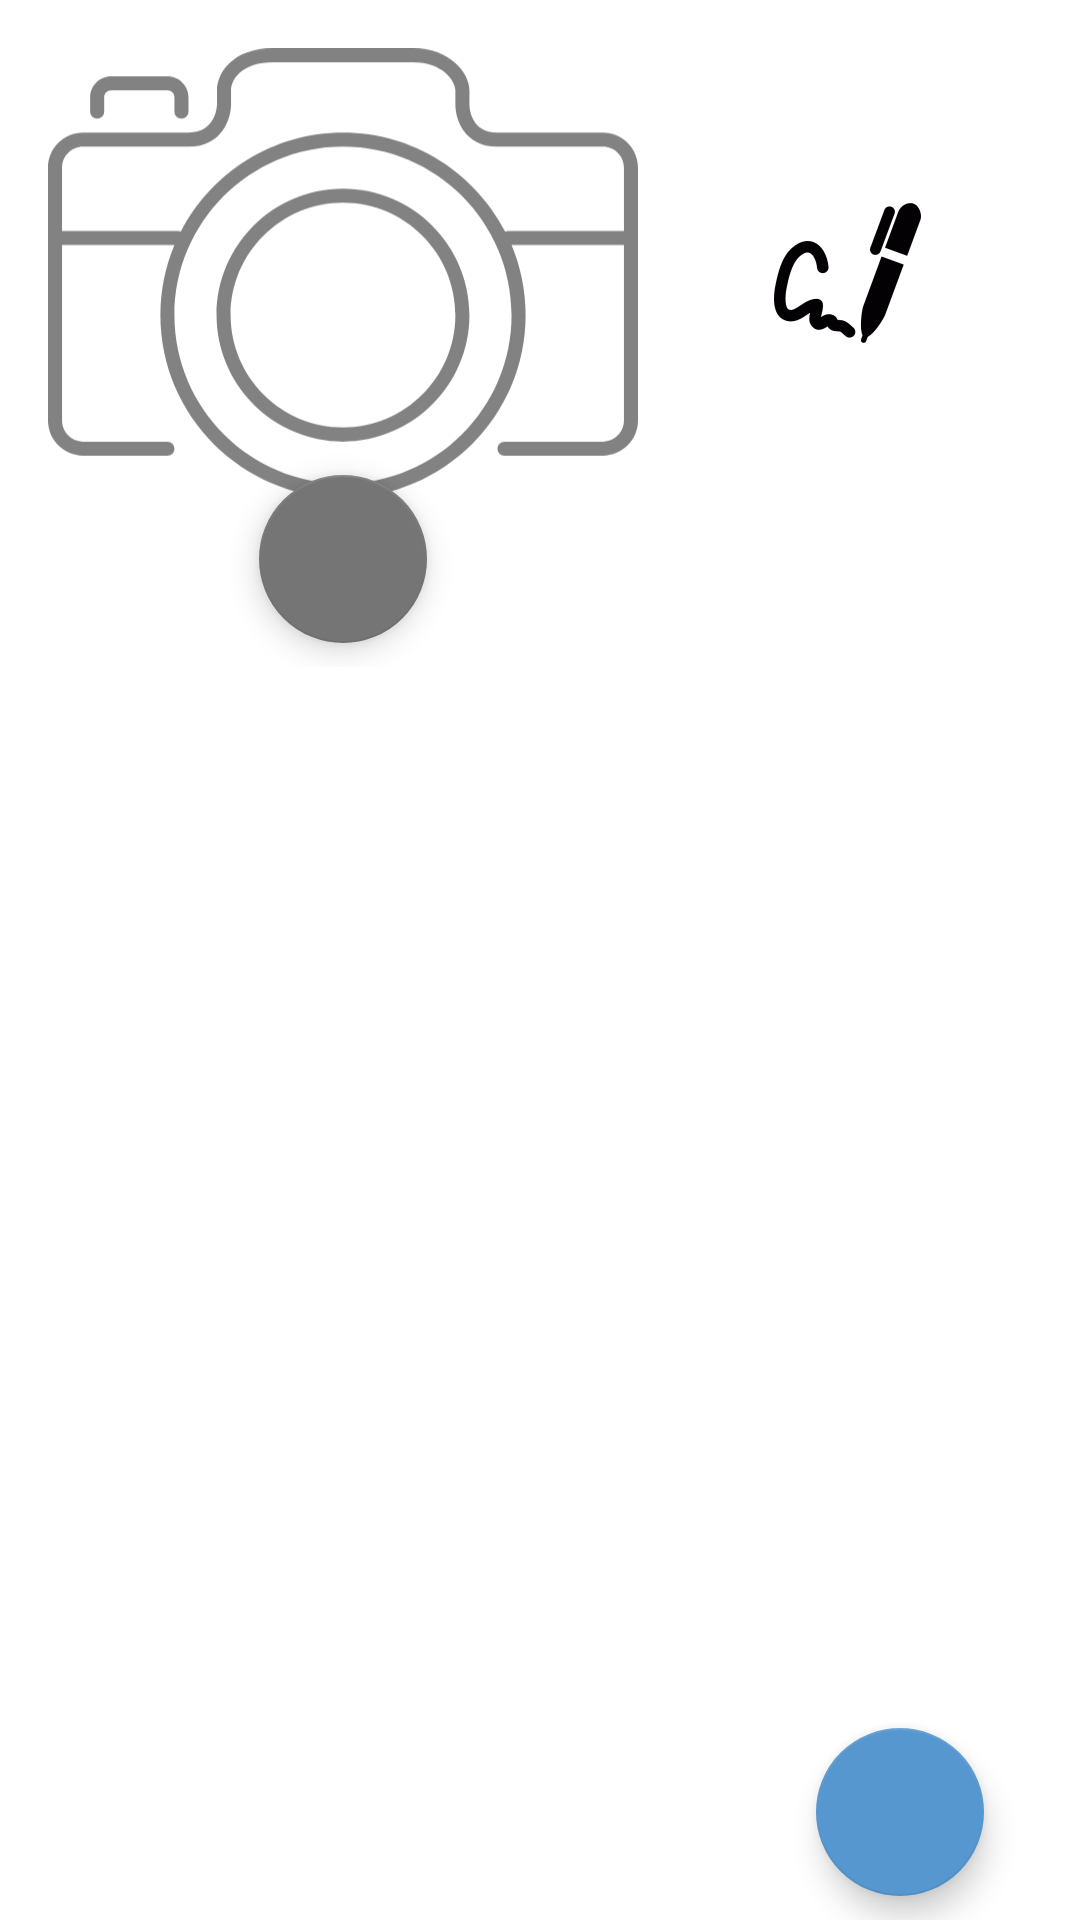

Named icons in this screenshot (1080 x 1920) and their bounding boxes, {"left": x1, "top": y1, "right": x2, "bottom": y2}:
sign: {"left": 774, "top": 203, "right": 921, "bottom": 343}
